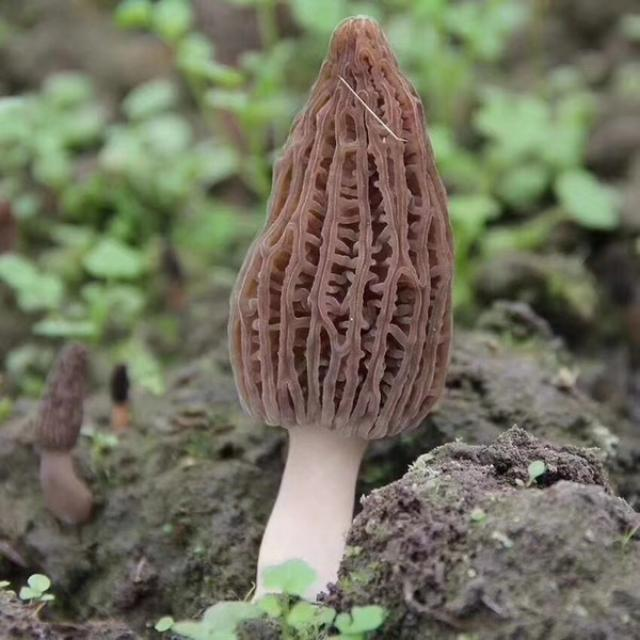Morchella esculenta: (231, 20, 451, 607), (38, 338, 87, 522)
